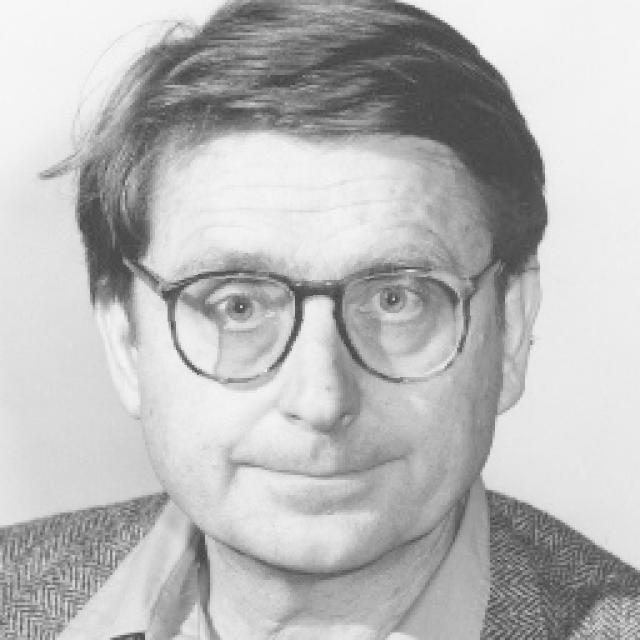glasses: (122, 235, 504, 402)
